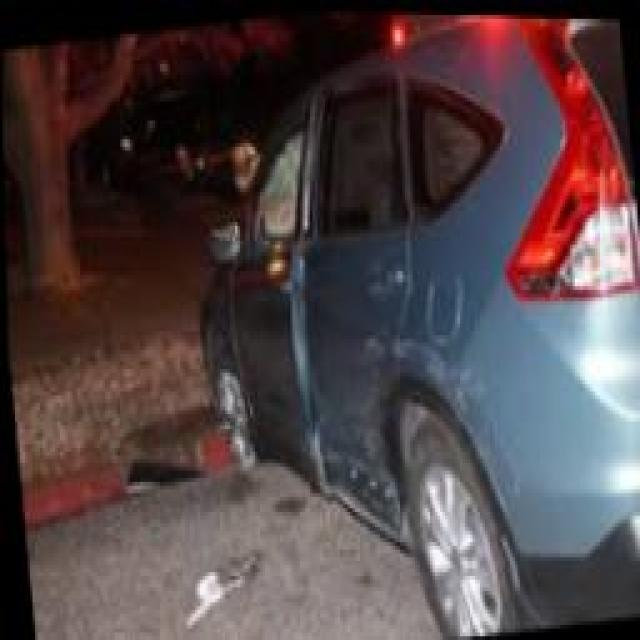replaceable: (358, 314, 474, 411), (330, 405, 404, 520)
